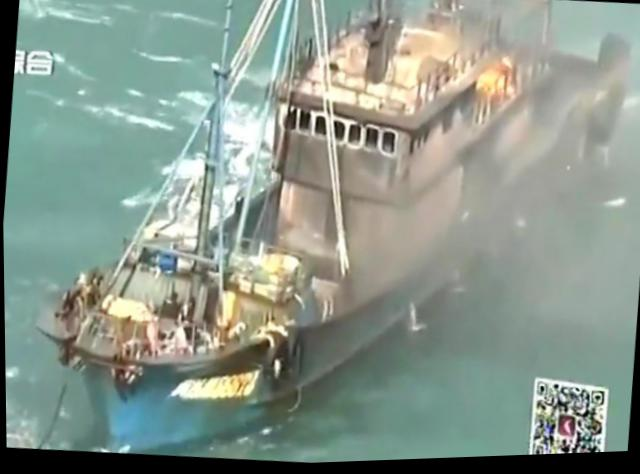fire: (474, 69, 509, 99)
